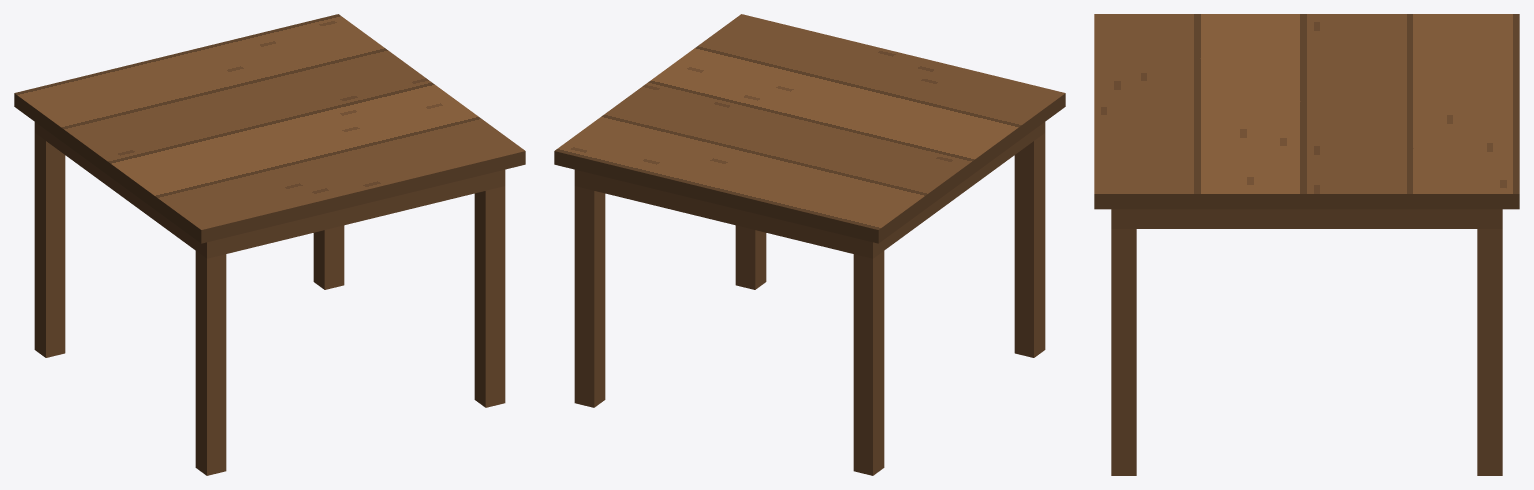
File: f_table.glb
3 views of the same model, side by side, from view 1: azimuth 30°, elevation 25°; view 2: azimuth 150°, elevation 25°; view 3: azimuth 270°, elevation 25° (orthographic). The views are drawn at different scales.
Parts seen in each view (by area): view 1: block_top, block_apron, block_leg-0.460.4, block_leg0.40.4, block_leg-0.46-0.46, block_leg0.4-0.46; view 2: block_top, block_apron, block_leg-0.46-0.46, block_leg0.4-0.46, block_leg-0.460.4, block_leg0.40.4; view 3: block_top, block_apron, block_leg0.4-0.46, block_leg0.40.4.
Boxes of the visible parts, x1,y1,x2,y2 form: block_top: (14,14,525,243); block_apron: (34,122,505,258); block_leg-0.460.4: (195,251,226,475); block_leg0.40.4: (474,186,505,407); block_leg-0.46-0.46: (34,133,65,357); block_leg0.4-0.46: (313,225,344,289); block_top: (554,14,1065,243); block_apron: (574,122,1045,258); block_leg-0.46-0.46: (853,251,884,475); block_leg0.4-0.46: (574,186,605,407); block_leg-0.460.4: (1014,133,1045,357); block_leg0.40.4: (735,225,766,289); block_top: (1094,14,1519,209); block_apron: (1111,209,1502,228); block_leg0.4-0.46: (1477,229,1502,475); block_leg0.40.4: (1111,229,1136,475).
Size of the model in its own units: 1 by 0.75 by 1.
Materials: 1 (1 with a texture image).
